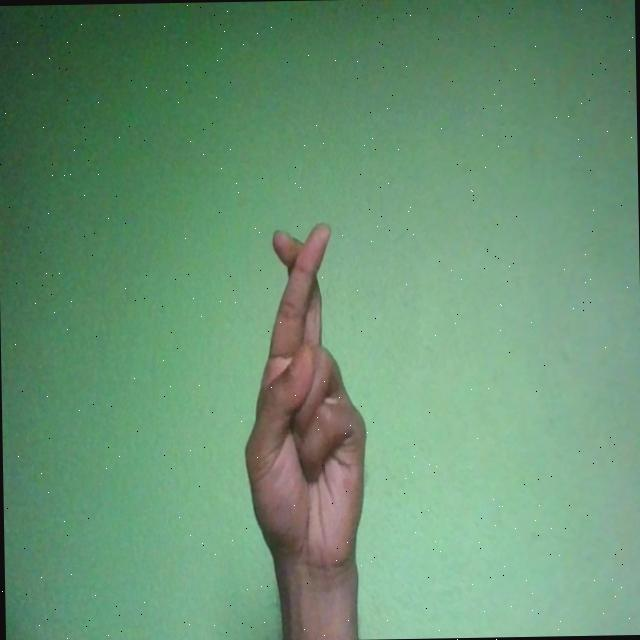Ok: (242, 220, 368, 582)
